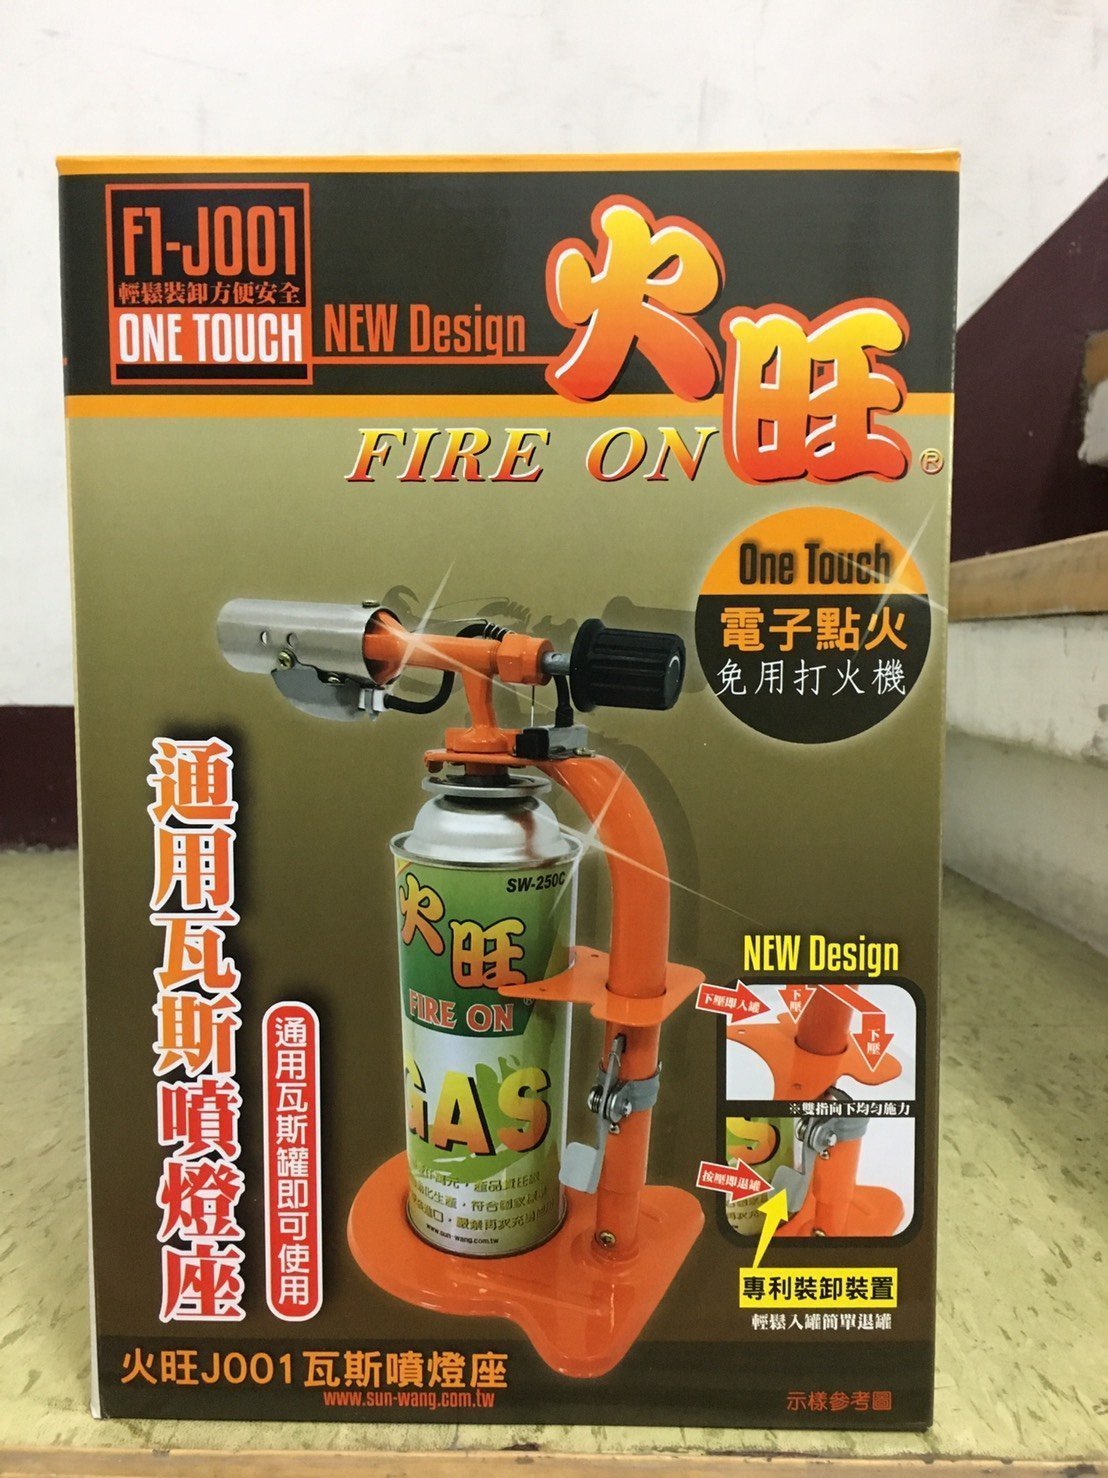gastorch: (208, 594, 723, 1362)
